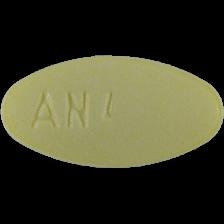68084-491: (0, 0, 224, 224)
